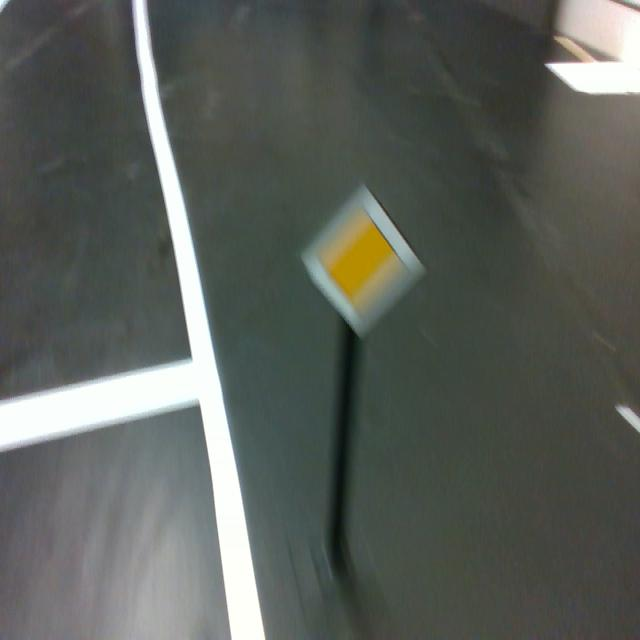priority-sign: (300, 182, 427, 341)
